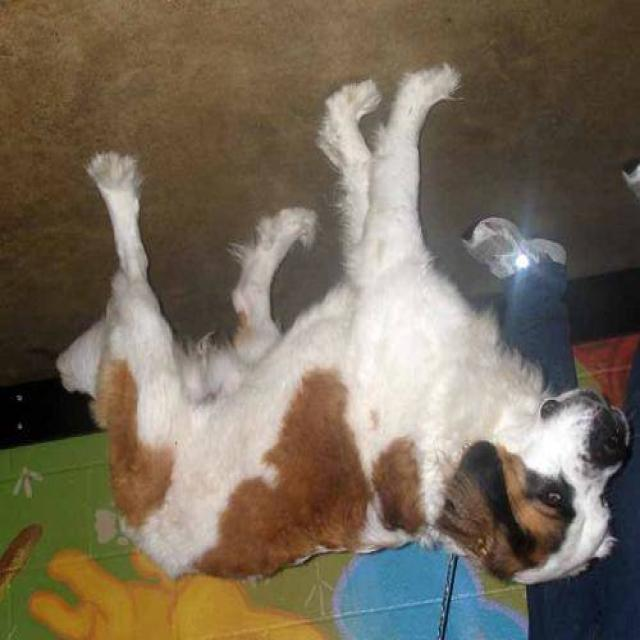dog: (55, 28, 640, 602)
